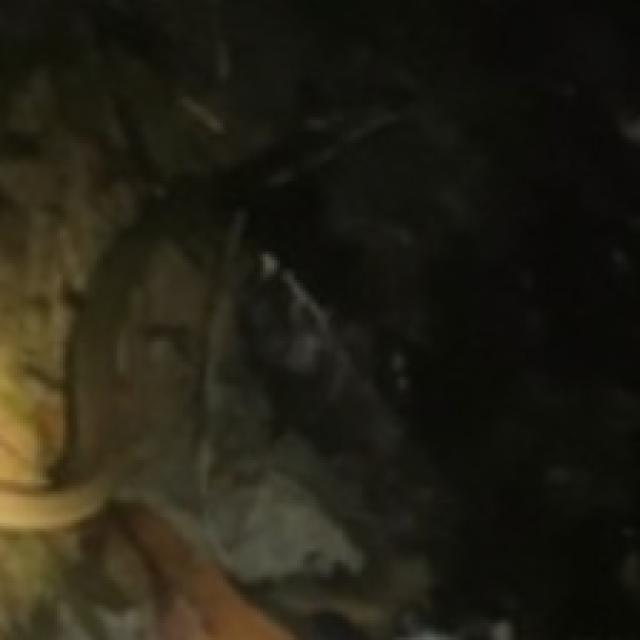king cobra: (0, 161, 268, 532), (278, 122, 380, 179)
